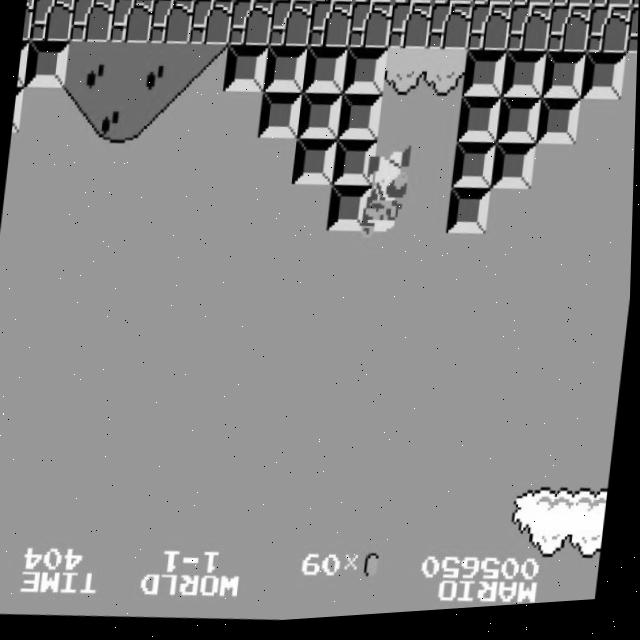17- undestructible_block: (307, 2, 354, 54), (267, 1, 314, 52), (586, 12, 632, 64), (387, 5, 433, 57), (546, 11, 592, 62), (506, 10, 552, 61), (467, 8, 513, 59), (427, 7, 473, 58), (347, 4, 393, 55), (228, 0, 274, 51), (188, 0, 234, 50), (148, 0, 194, 48), (108, 0, 154, 47), (69, 0, 115, 45), (29, 0, 75, 43), (591, 0, 634, 18), (551, 0, 595, 17), (511, 0, 555, 15), (626, 15, 639, 65), (472, 0, 515, 14), (432, 0, 475, 12), (22, 0, 34, 41), (392, 0, 435, 11), (352, 0, 396, 10), (312, 0, 356, 8), (273, 0, 316, 7), (233, 0, 276, 5), (193, 0, 236, 4), (631, 0, 639, 19), (153, 0, 196, 2), (113, 0, 156, 1)
4- fire_mario: (361, 149, 414, 248)
9- hard_block: (262, 47, 309, 99), (456, 100, 503, 151), (461, 54, 508, 105), (536, 102, 582, 154), (501, 55, 547, 107), (337, 95, 383, 147), (257, 92, 303, 144), (581, 58, 627, 109), (541, 57, 587, 108), (496, 101, 542, 152), (446, 191, 492, 242), (451, 146, 497, 197), (327, 187, 373, 238), (342, 50, 388, 101), (297, 94, 343, 145), (302, 49, 348, 100), (223, 46, 269, 97), (24, 39, 70, 90), (491, 148, 537, 198), (332, 142, 378, 192), (292, 141, 338, 191), (17, 40, 29, 87), (12, 86, 24, 132)
